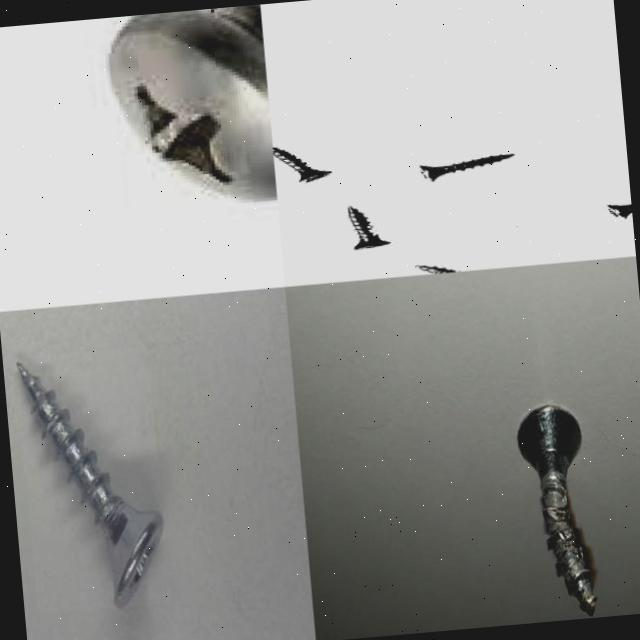Screw: (17, 363, 164, 609), (107, 4, 277, 204), (518, 407, 596, 617), (419, 153, 512, 181), (272, 147, 330, 182), (345, 206, 389, 250), (607, 204, 632, 218), (414, 266, 458, 273)
